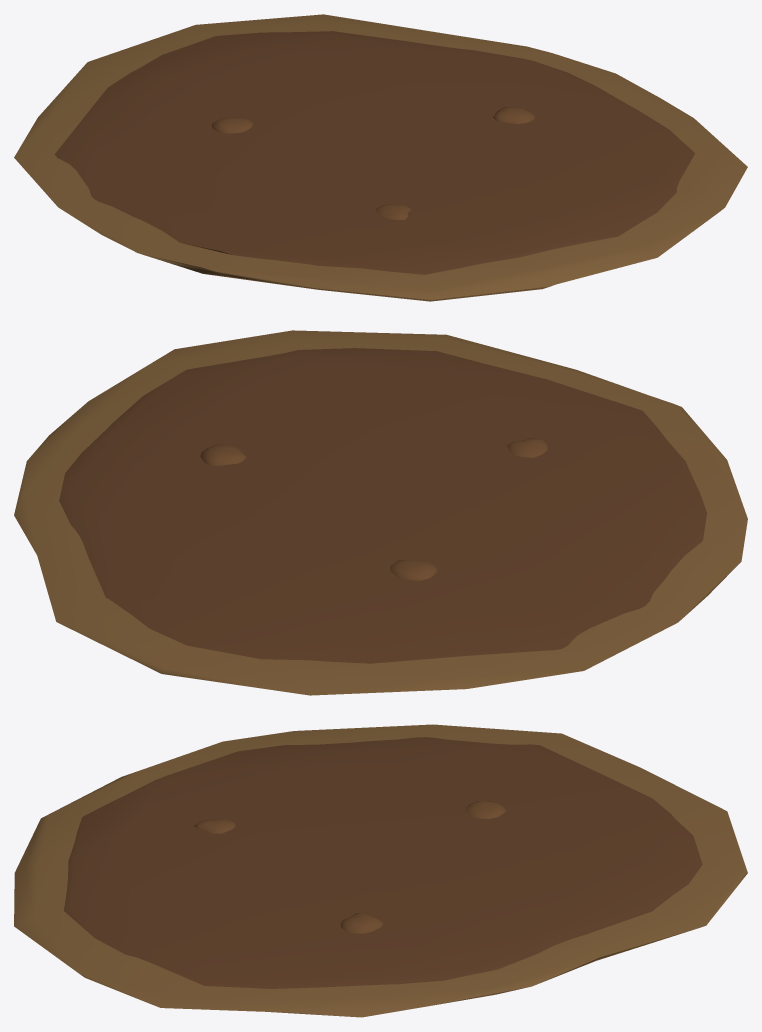
The model's file is pig_mud_bath.glb.
3 renders of one model, top to bottom at view 1: azimuth 30°, elevation 25°; view 2: azimuth 150°, elevation 25°; view 3: azimuth 270°, elevation 25°, orthographic. The views are drawn at different scales.
Parts seen in each view (by area): view 1: decor-pig_mud_bath; view 2: decor-pig_mud_bath; view 3: decor-pig_mud_bath.
Part boxes in pixels (bbox=[...]): decor-pig_mud_bath: bbox=[14, 14, 747, 301]; decor-pig_mud_bath: bbox=[14, 330, 747, 695]; decor-pig_mud_bath: bbox=[14, 724, 747, 1017].
Size of the model in its own units: 3.41 by 0.1805 by 3.67.
